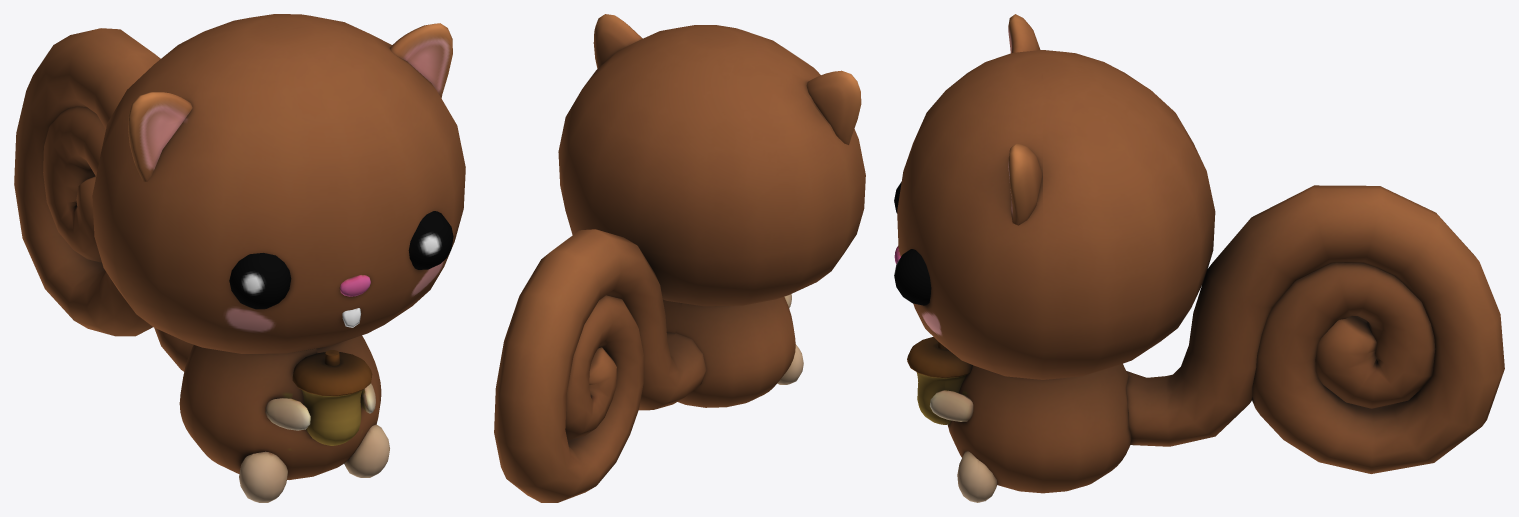
File: 3D_Squirel.FBX
The picture shows the model from 3 angles, left to right: view 1: azimuth 30°, elevation 25°; view 2: azimuth 150°, elevation 25°; view 3: azimuth 270°, elevation 25°; orthographic projection. The views are drawn at different scales.
Visible parts, largest first — view 1: 3D_Squirel; view 2: 3D_Squirel; view 3: 3D_Squirel.
Part boxes in pixels (bbox=[...]): 3D_Squirel: bbox=[14, 14, 465, 502]; 3D_Squirel: bbox=[494, 14, 865, 502]; 3D_Squirel: bbox=[894, 14, 1504, 502].
Size of the model in its own units: 116 by 144 by 195.
